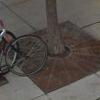Bicycle: (1, 19, 51, 91)
